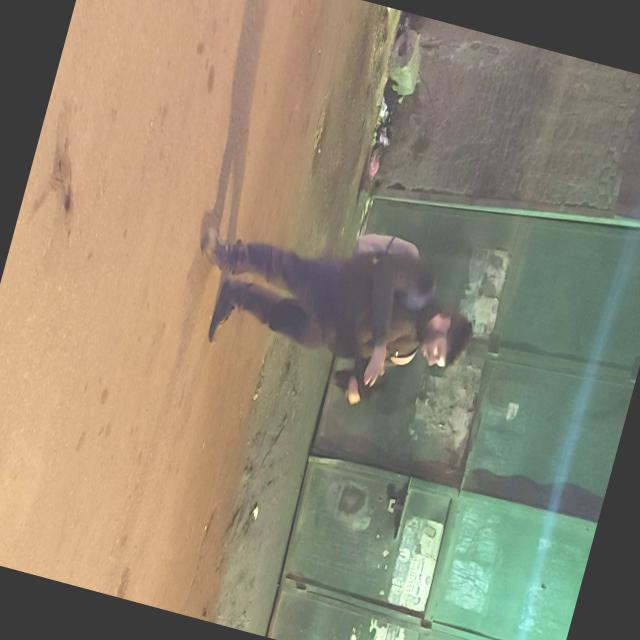long weapon: (316, 355, 394, 419)
